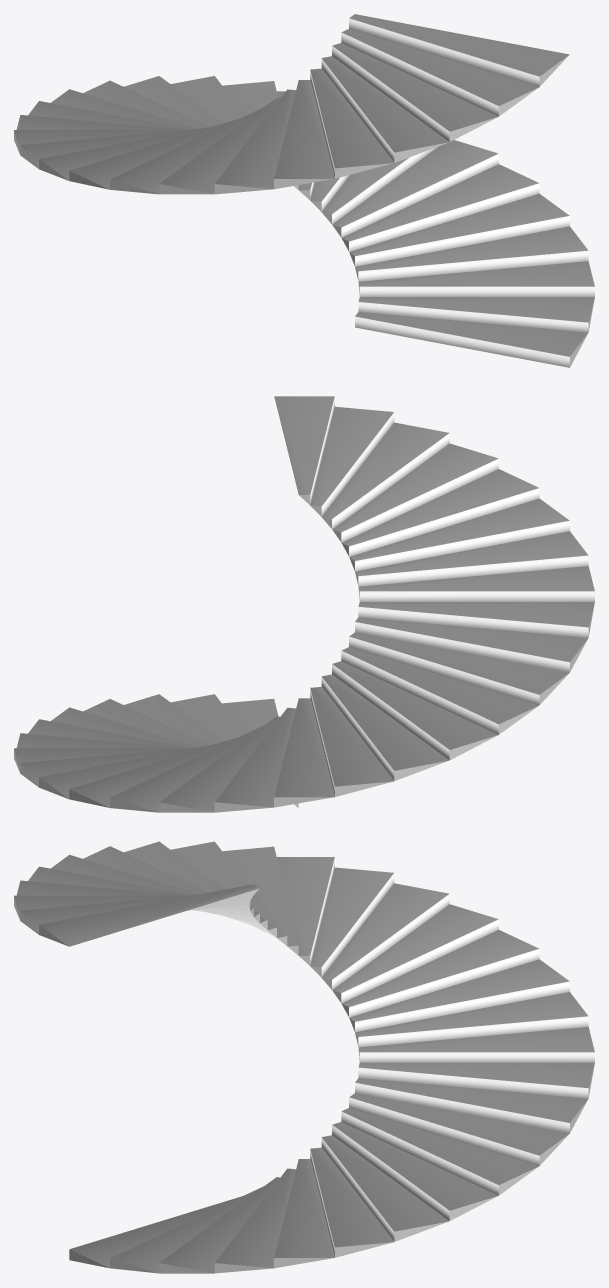
Rendered from Spiral_Stair_Rm_Stair.fbx.
The picture shows the model from 3 angles, top to bottom: view 1: azimuth 30°, elevation 25°; view 2: azimuth 150°, elevation 25°; view 3: azimuth 270°, elevation 25°; orthographic projection.
Visible parts, largest first — view 1: P_Spiral_Stair_Rm_Btm3; view 2: P_Spiral_Stair_Rm_Btm3; view 3: P_Spiral_Stair_Rm_Btm3.
Boxes of the visible parts, x1,y1,x2,y2 form: P_Spiral_Stair_Rm_Btm3: (14, 14, 594, 367); P_Spiral_Stair_Rm_Btm3: (14, 396, 594, 812); P_Spiral_Stair_Rm_Btm3: (14, 841, 594, 1273).
Bounding box in the file's own units: 9.96 × 5.96 × 10.01.
